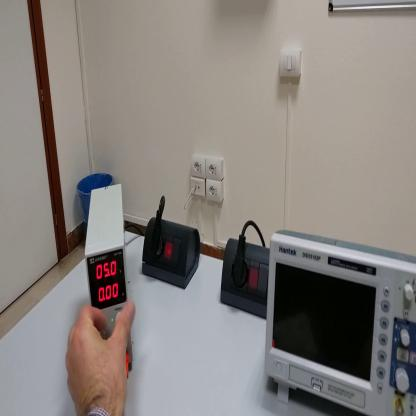hand: (66, 304, 136, 415)
oscilloscope: (260, 222, 416, 416)
power supply: (84, 185, 134, 367)
socket: (142, 214, 203, 294), (218, 237, 269, 320)
